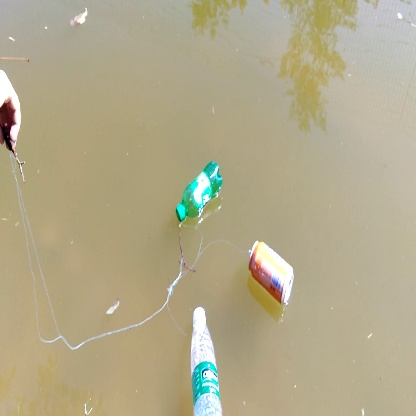bottle: (185, 302, 235, 416), (244, 235, 305, 310), (172, 157, 227, 226)
